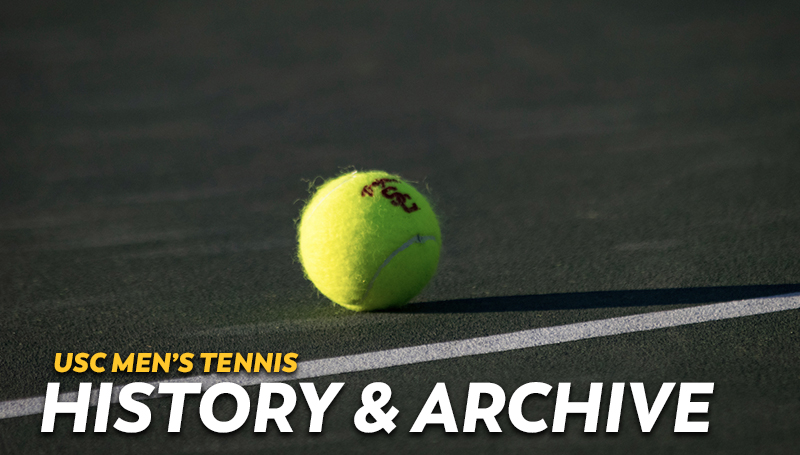tennis_ball: (292, 169, 443, 311)
